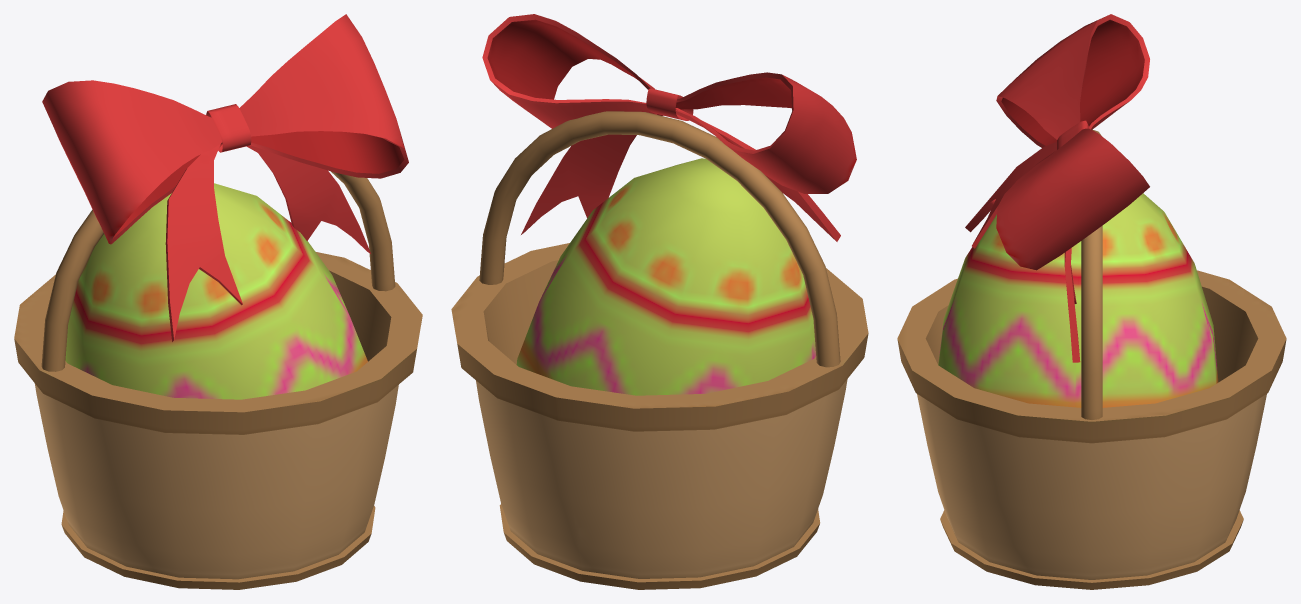
File: bunny_BasketEggs.fbx
3 renders of one model, left to right at view 1: azimuth 30°, elevation 25°; view 2: azimuth 150°, elevation 25°; view 3: azimuth 270°, elevation 25°, orthographic. The views are drawn at different scales.
Parts seen in each view (by area): view 1: bunny_BasketEggs; view 2: bunny_BasketEggs; view 3: bunny_BasketEggs.
Part boxes in pixels (x1,y1,x2,y2): bunny_BasketEggs: (14, 14, 422, 589); bunny_BasketEggs: (451, 14, 868, 589); bunny_BasketEggs: (897, 14, 1286, 589).
Size of the model in its own units: 1.12 by 1.51 by 1.1.
